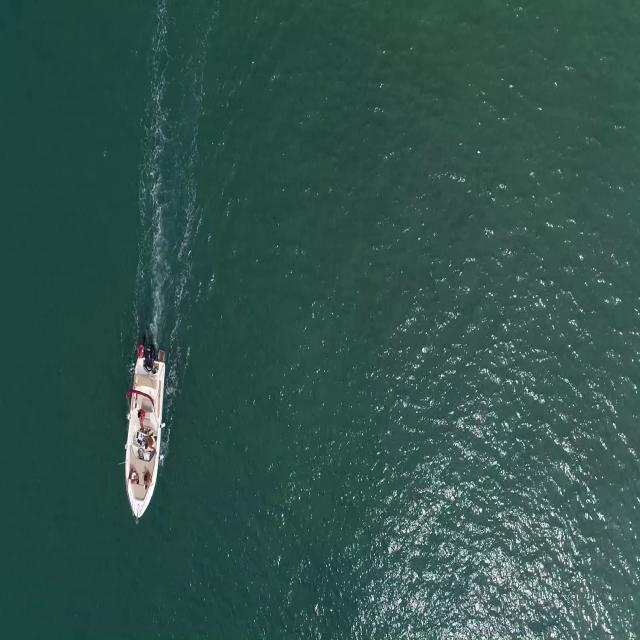boat: (123, 358, 166, 524)
life_buoy: (136, 344, 145, 358)
person: (144, 434, 160, 456), (126, 468, 140, 492), (136, 406, 146, 430), (143, 472, 152, 491)
